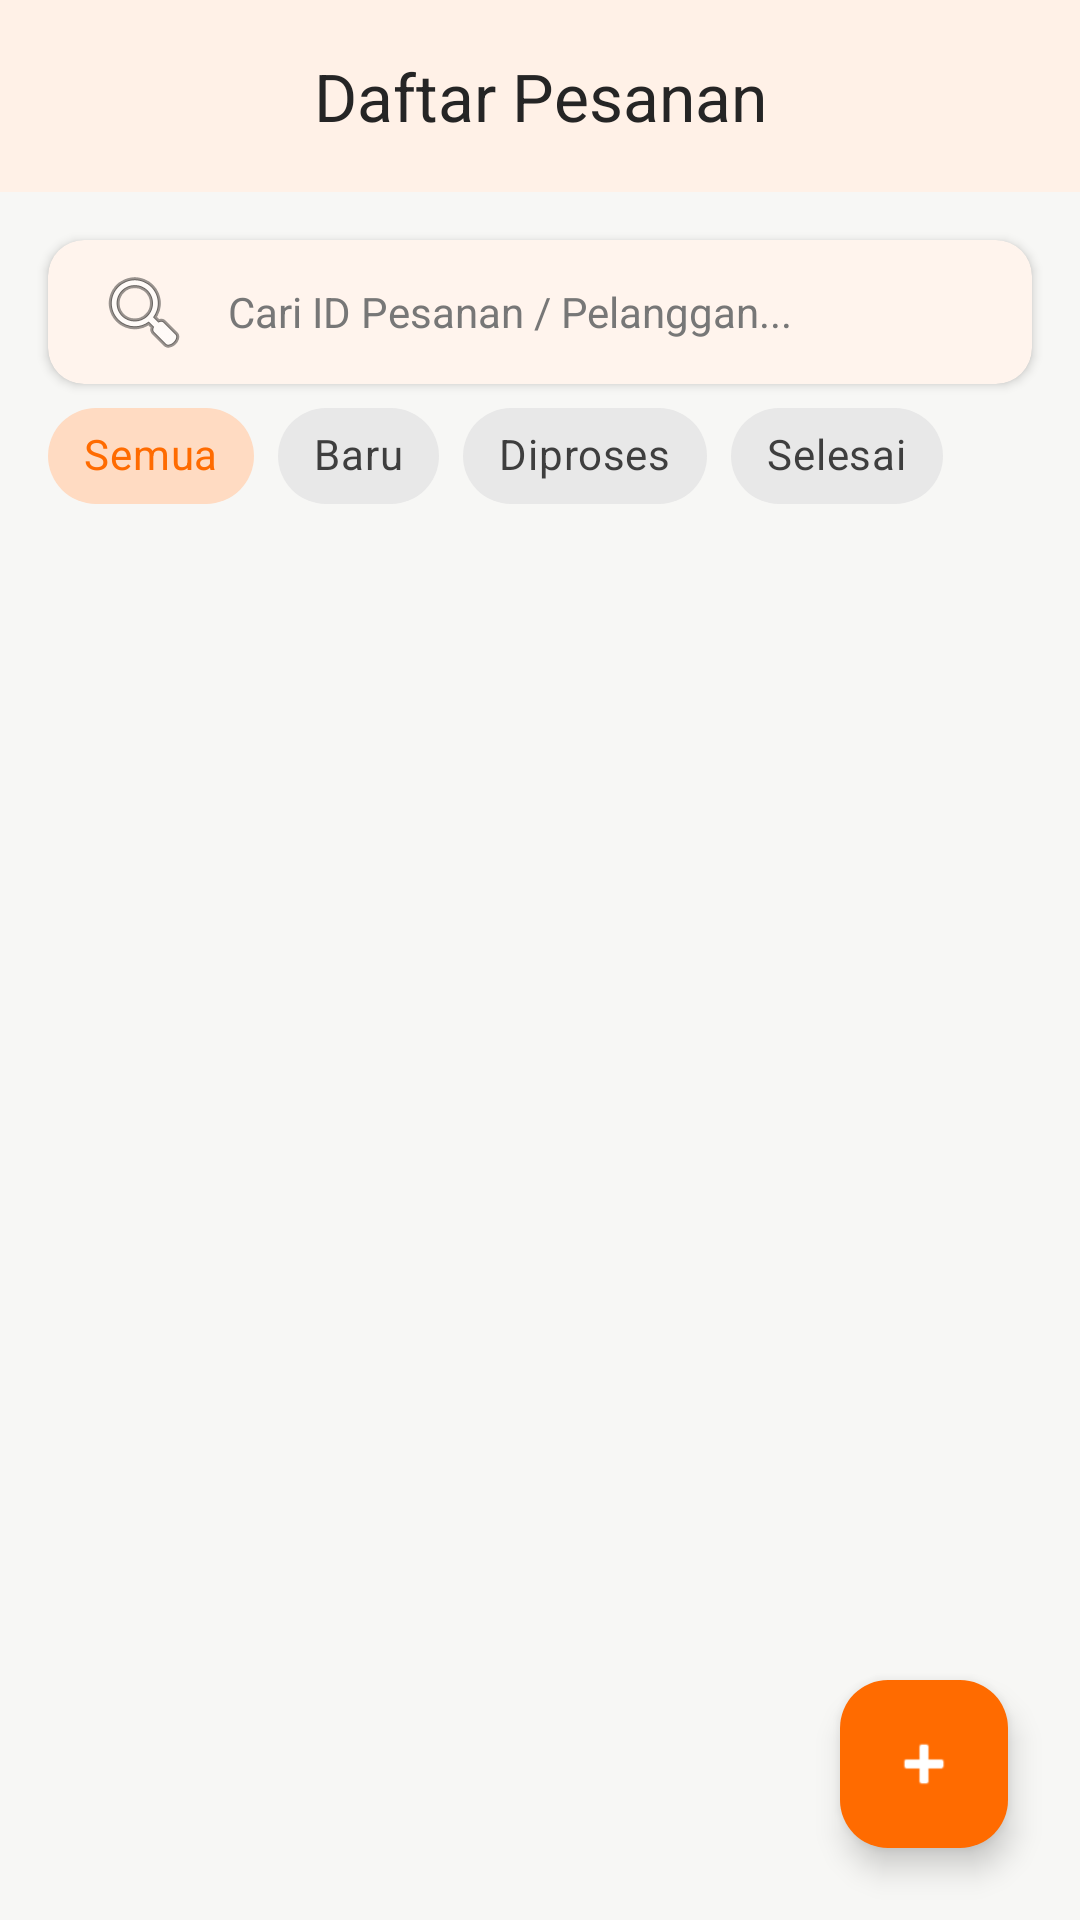

Named icons in this screenshot (1080px x 1920px) and their bounding boxes, (x1, y1, x2, y2):
Tambah Pesanan: (840, 1680, 1008, 1848)
